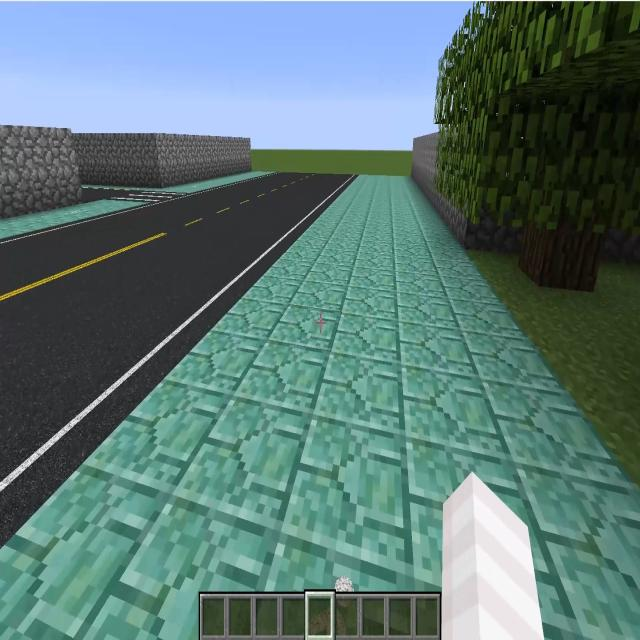crosswalk: (118, 193, 183, 203)
road: (0, 173, 358, 551), (84, 190, 142, 200)
sidewalk: (0, 176, 640, 639), (0, 200, 146, 239), (164, 172, 275, 193), (84, 187, 174, 190)
